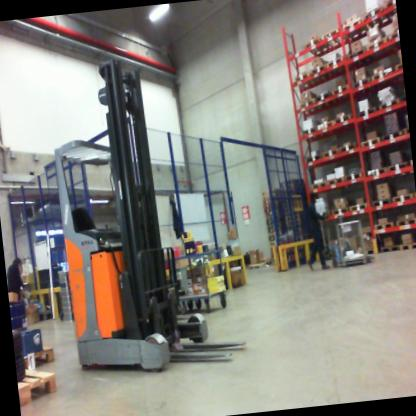forklift: (30, 31, 275, 394)
pallet: (17, 364, 69, 413), (19, 340, 57, 378), (318, 25, 352, 57), (304, 30, 335, 63), (340, 12, 371, 44), (359, 4, 390, 35), (343, 42, 370, 77), (369, 65, 398, 95), (298, 92, 327, 119), (331, 106, 357, 134), (308, 58, 330, 91), (366, 31, 391, 60), (355, 100, 380, 128), (315, 84, 337, 115), (330, 77, 354, 105), (293, 67, 318, 93), (351, 74, 373, 100), (377, 93, 403, 114), (308, 170, 327, 198), (343, 166, 368, 187), (326, 51, 344, 77), (348, 195, 371, 215), (360, 131, 383, 151), (387, 25, 401, 57), (317, 114, 334, 140), (324, 168, 345, 189), (391, 187, 413, 207), (319, 141, 340, 161), (370, 192, 393, 210), (380, 130, 403, 147), (392, 213, 416, 229), (372, 216, 392, 235), (300, 123, 318, 144), (386, 158, 408, 174), (382, 0, 397, 23), (399, 238, 416, 258), (338, 139, 361, 153), (366, 164, 386, 178), (329, 203, 350, 216), (303, 149, 321, 163), (381, 240, 399, 252), (393, 59, 401, 77), (401, 125, 409, 142)
pallet_truck: (312, 193, 378, 275)
stillage: (334, 214, 373, 267)
